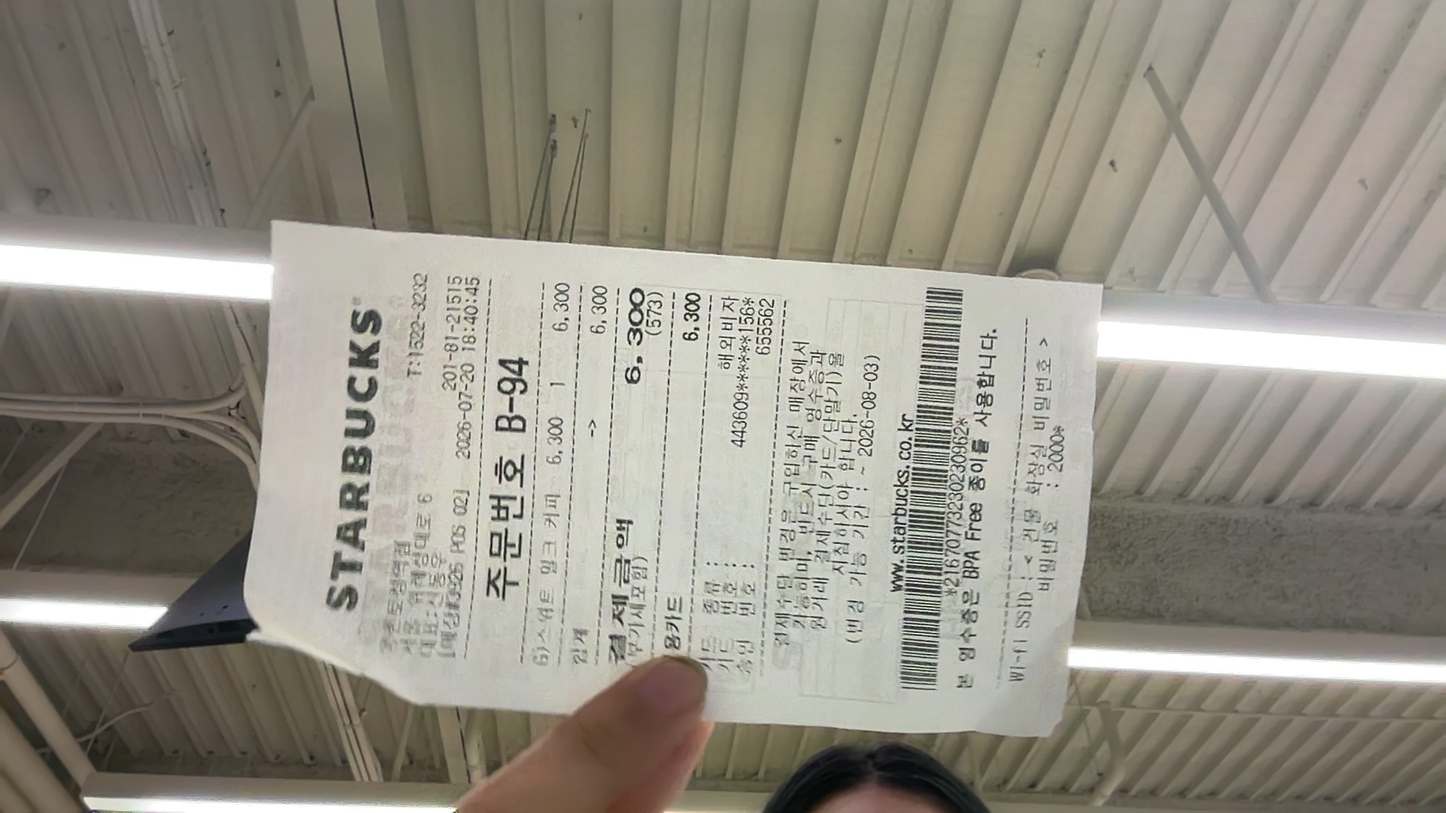Paper: (5, 405, 253, 606)
